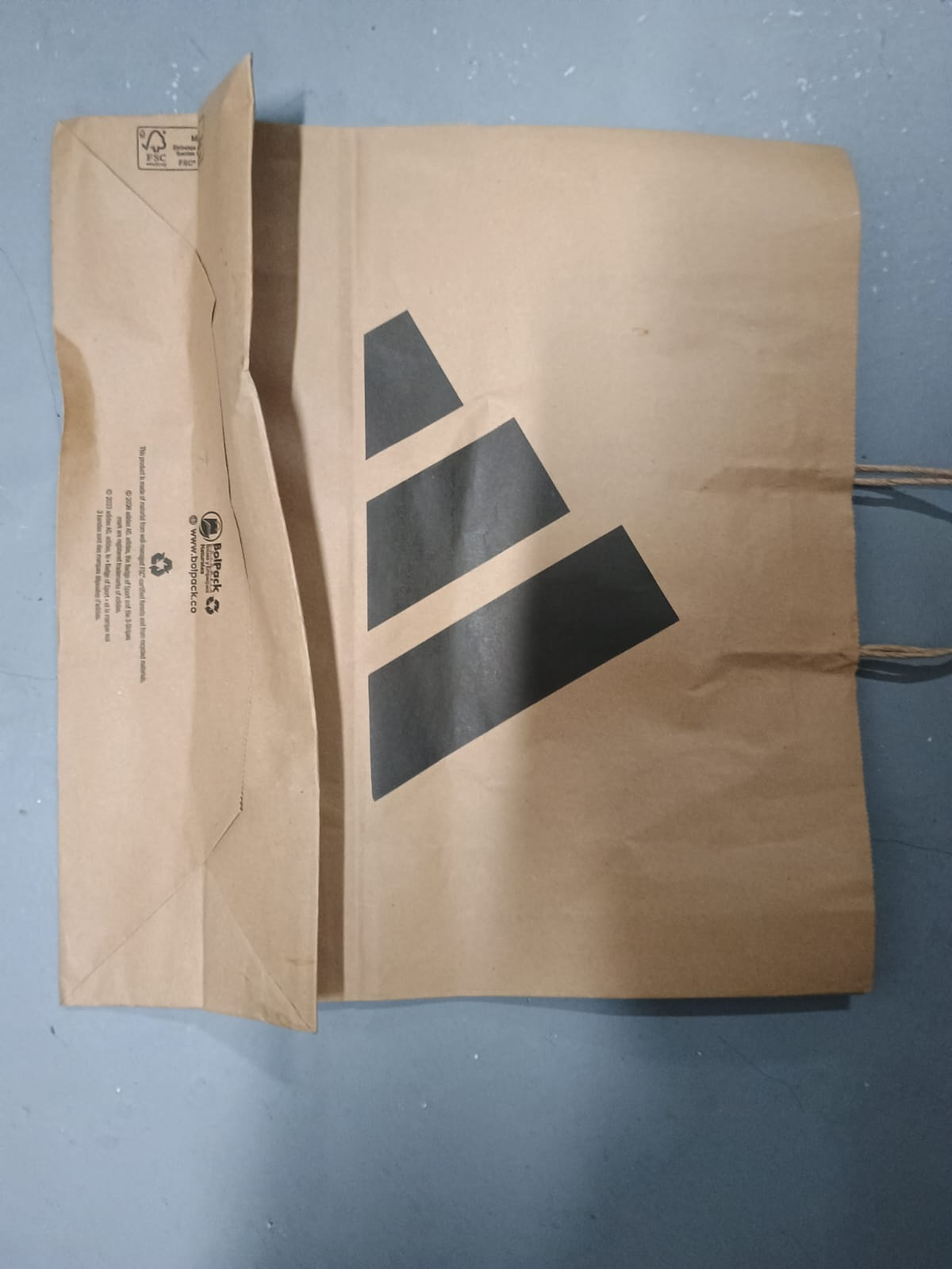Carton: (58, 133, 867, 993)
